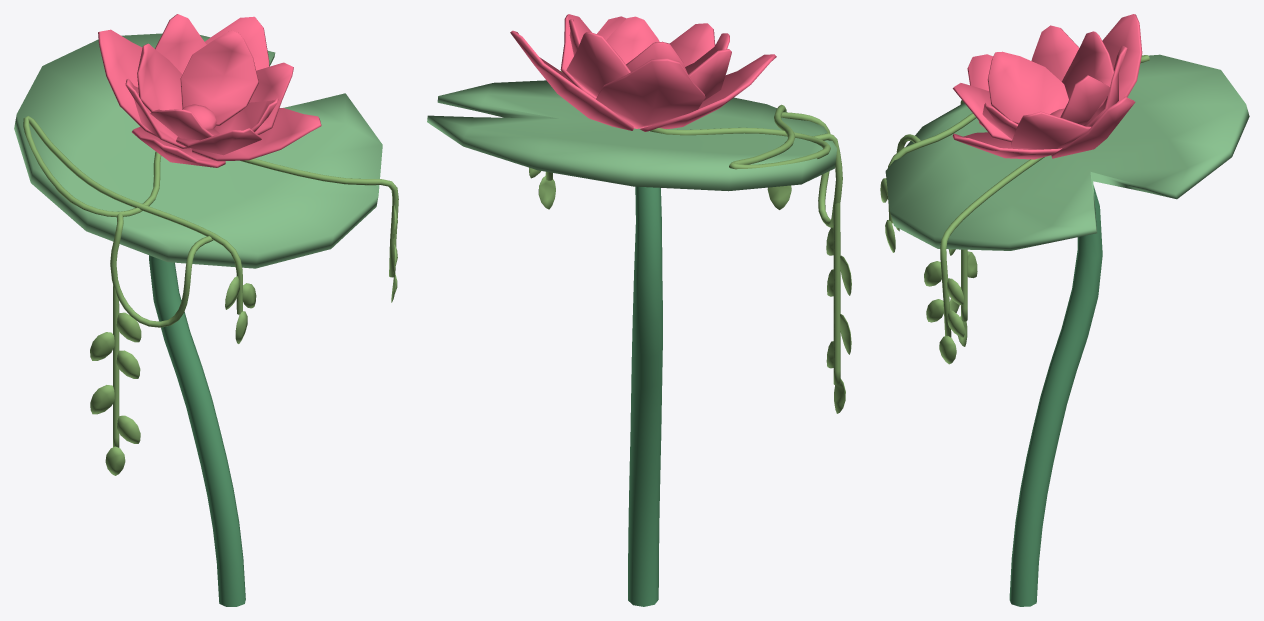
The model's file is Biglilypad1.fbx.
The picture shows the model from 3 angles, left to right: view 1: azimuth 30°, elevation 25°; view 2: azimuth 150°, elevation 25°; view 3: azimuth 270°, elevation 25°; orthographic projection. The views are drawn at different scales.
Parts seen in each view (by area): view 1: Lotus1; view 2: Lotus1; view 3: Lotus1.
Part boxes in pixels (x1,y1,x2,y2): Lotus1: [14, 14, 398, 606]; Lotus1: [427, 14, 851, 606]; Lotus1: [880, 14, 1249, 606].
Size of the model in its own units: 313 by 513 by 310.
